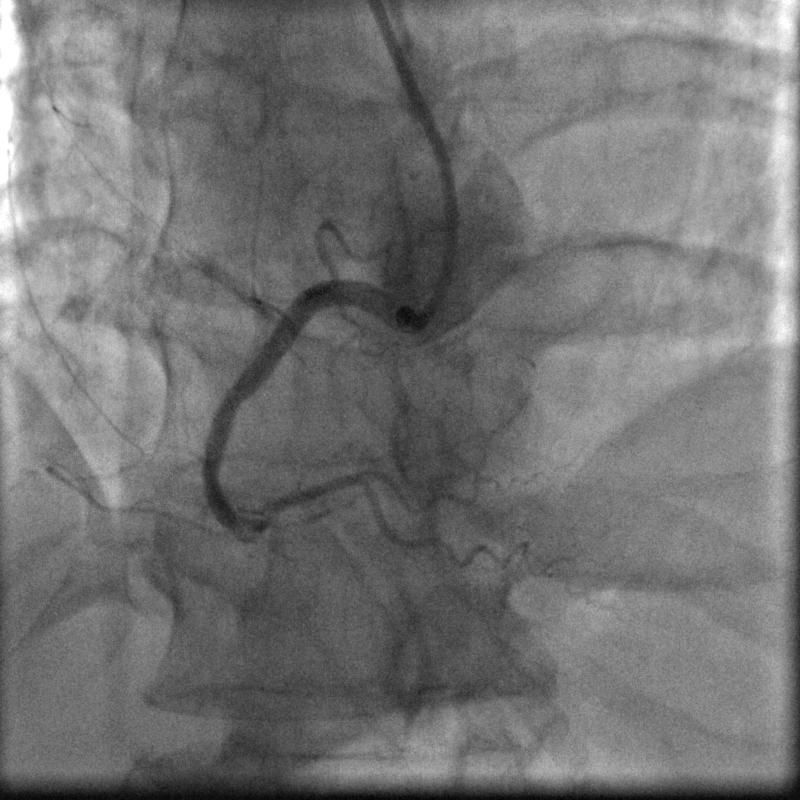Stenosis: (233, 510, 289, 540)
